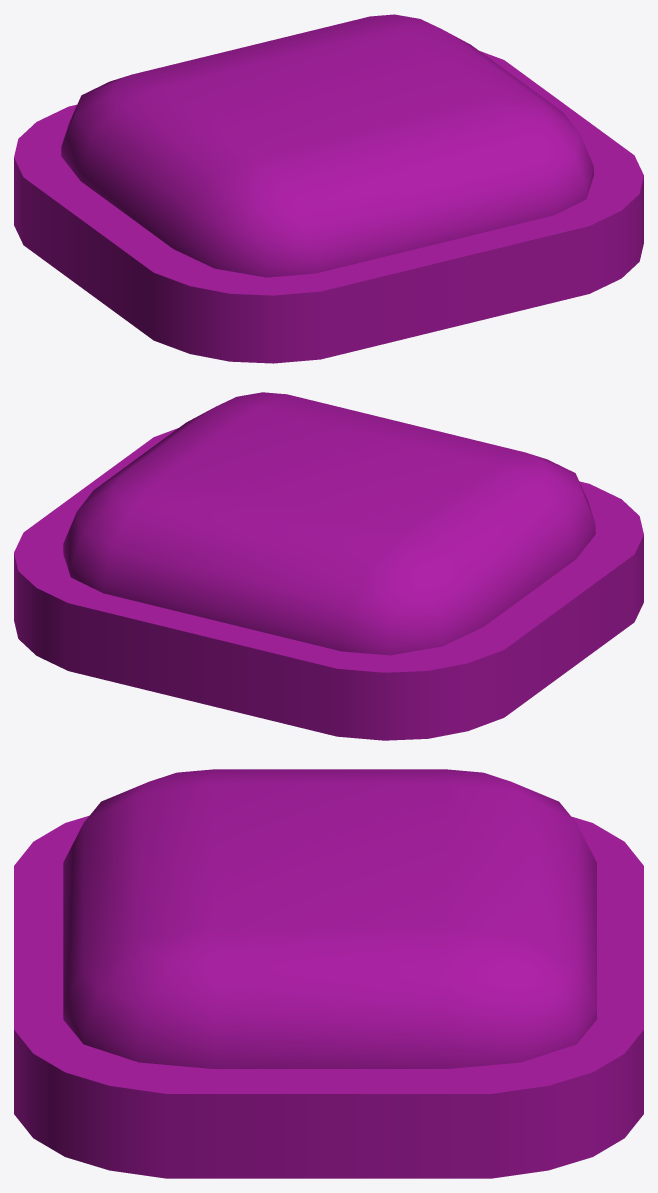
Rendered from SmallButton.fbx.
3 renders of one model, top to bottom at view 1: azimuth 30°, elevation 25°; view 2: azimuth 150°, elevation 25°; view 3: azimuth 270°, elevation 25°, orthographic. The views are drawn at different scales.
Parts seen in each view (by area): view 1: Box114; view 2: Box114; view 3: Box114.
Boxes of the visible parts, <box> form: Box114: <box>14,14,643,363</box>; Box114: <box>14,392,643,740</box>; Box114: <box>14,769,643,1178</box>.
Bounding box in the file's own units: 3.04 × 0.8514 × 2.76.
